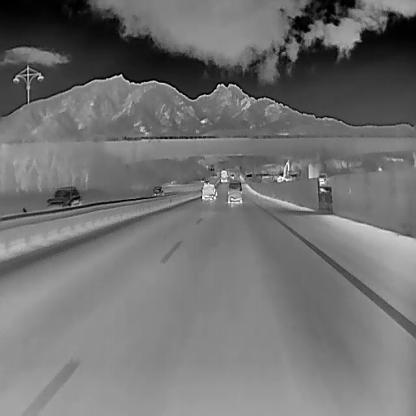car: (46, 185, 82, 209), (226, 180, 243, 204), (201, 182, 215, 201), (151, 184, 164, 198), (230, 173, 235, 180), (205, 178, 209, 184), (200, 176, 204, 181)
truck: (220, 169, 227, 184)
